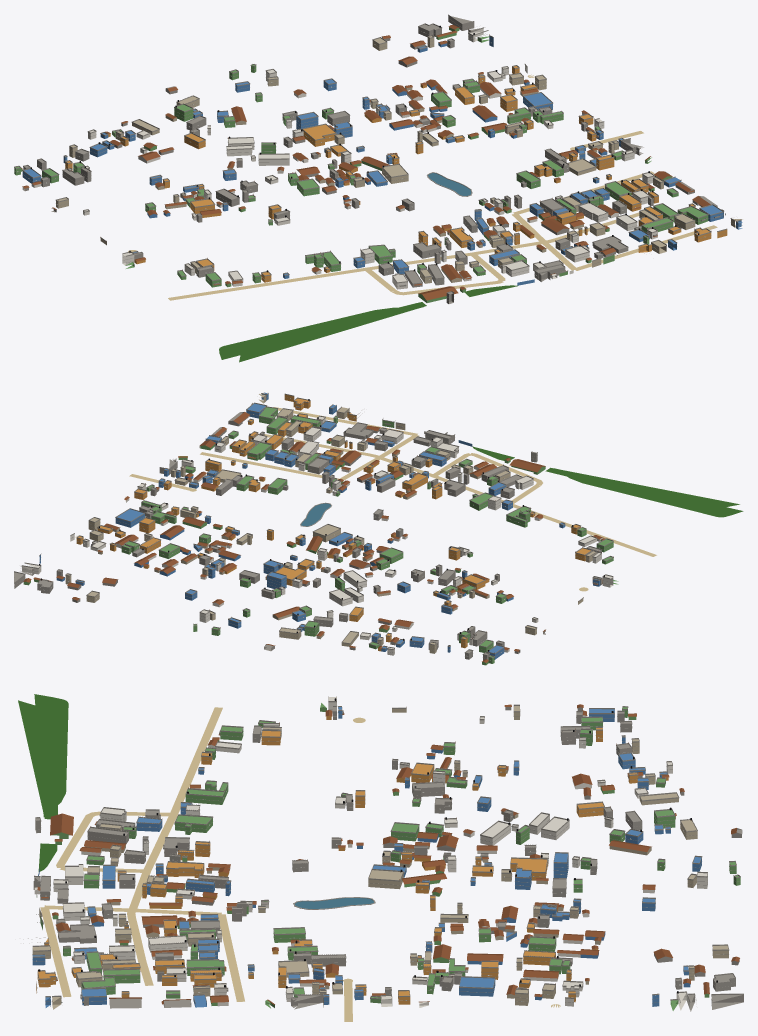
Rendered from zone_t-6_2.glb.
The picture shows the model from 3 angles, top to bottom: view 1: azimuth 30°, elevation 25°; view 2: azimuth 150°, elevation 25°; view 3: azimuth 270°, elevation 25°; orthographic projection. The views are drawn at different scales.
Visible parts, largest first — view 1: parapet_t-6_2, bld_beton_t-6_2-col, bld_peinture_vert_t-6_2-col, toit_tole_t-6_2, bld_peinture_ocre_t-6_2-col, bld_peinture_blanc_t-6_2-col, bld_peinture_bleu_t-6_2-col, bld_peinture_ecaillee_t-6_2-col, route_residential_terre_t-6_2, zone_humide_t-6_2, bandeau_t-6_2; view 2: parapet_t-6_2, bld_beton_t-6_2-col, bld_peinture_vert_t-6_2-col, toit_tole_t-6_2, bld_peinture_bleu_t-6_2-col, bld_peinture_ocre_t-6_2-col, bld_peinture_blanc_t-6_2-col, bld_peinture_ecaillee_t-6_2-col, route_residential_terre_t-6_2, zone_humide_t-6_2, bandeau_t-6_2; view 3: parapet_t-6_2, bld_beton_t-6_2-col, toit_tole_t-6_2, bld_peinture_vert_t-6_2-col, bld_peinture_ocre_t-6_2-col, bld_peinture_bleu_t-6_2-col, bld_peinture_blanc_t-6_2-col, bld_peinture_ecaillee_t-6_2-col, route_residential_terre_t-6_2, zone_humide_t-6_2, bandeau_t-6_2, zone_eau_t-6_2.
Boxes of the visible parts, x1,y1,x2,y2 form: parapet_t-6_2: (14, 14, 741, 294); bld_beton_t-6_2-col: (22, 16, 723, 303); bld_peinture_vert_t-6_2-col: (14, 27, 708, 302); toit_tole_t-6_2: (21, 25, 710, 300); bld_peinture_ocre_t-6_2-col: (65, 66, 727, 282); bld_peinture_blanc_t-6_2-col: (31, 28, 669, 289); bld_peinture_bleu_t-6_2-col: (22, 36, 742, 285); bld_peinture_ecaillee_t-6_2-col: (56, 36, 742, 283); route_residential_terre_t-6_2: (168, 74, 717, 300); zone_humide_t-6_2: (219, 285, 517, 362); bandeau_t-6_2: (15, 19, 740, 300); parapet_t-6_2: (14, 393, 613, 658); bld_beton_t-6_2-col: (14, 412, 602, 660); bld_peinture_vert_t-6_2-col: (23, 407, 618, 665); toit_tole_t-6_2: (23, 412, 605, 662); bld_peinture_bleu_t-6_2-col: (39, 392, 600, 659); bld_peinture_ocre_t-6_2-col: (76, 394, 602, 651); bld_peinture_blanc_t-6_2-col: (22, 416, 613, 655); bld_peinture_ecaillee_t-6_2-col: (65, 394, 596, 653); route_residential_terre_t-6_2: (75, 407, 656, 556); zone_humide_t-6_2: (472, 446, 743, 517); bandeau_t-6_2: (14, 396, 613, 661); parapet_t-6_2: (23, 696, 743, 1003); bld_beton_t-6_2-col: (33, 707, 743, 1011); toit_tole_t-6_2: (37, 704, 739, 1004); bld_peinture_vert_t-6_2-col: (36, 703, 740, 1010); bld_peinture_ocre_t-6_2-col: (36, 716, 668, 1004); bld_peinture_bleu_t-6_2-col: (32, 707, 701, 1007); bld_peinture_blanc_t-6_2-col: (34, 697, 707, 1010); bld_peinture_ecaillee_t-6_2-col: (32, 706, 728, 1009); route_residential_terre_t-6_2: (40, 707, 560, 1021); zone_humide_t-6_2: (18, 694, 68, 871); bandeau_t-6_2: (23, 702, 743, 1006); zone_eau_t-6_2: (295, 898, 373, 908).
Bounding box in the file's own units: 552 × 12.9 × 519.
